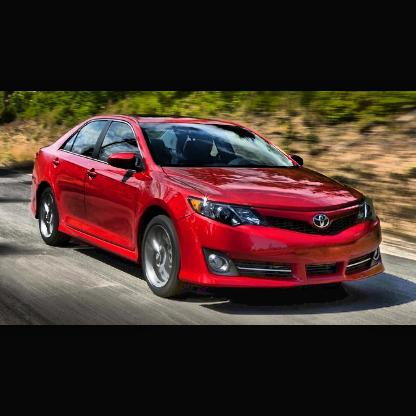Toyota Camry Sedan 2012: (31, 115, 387, 304)
